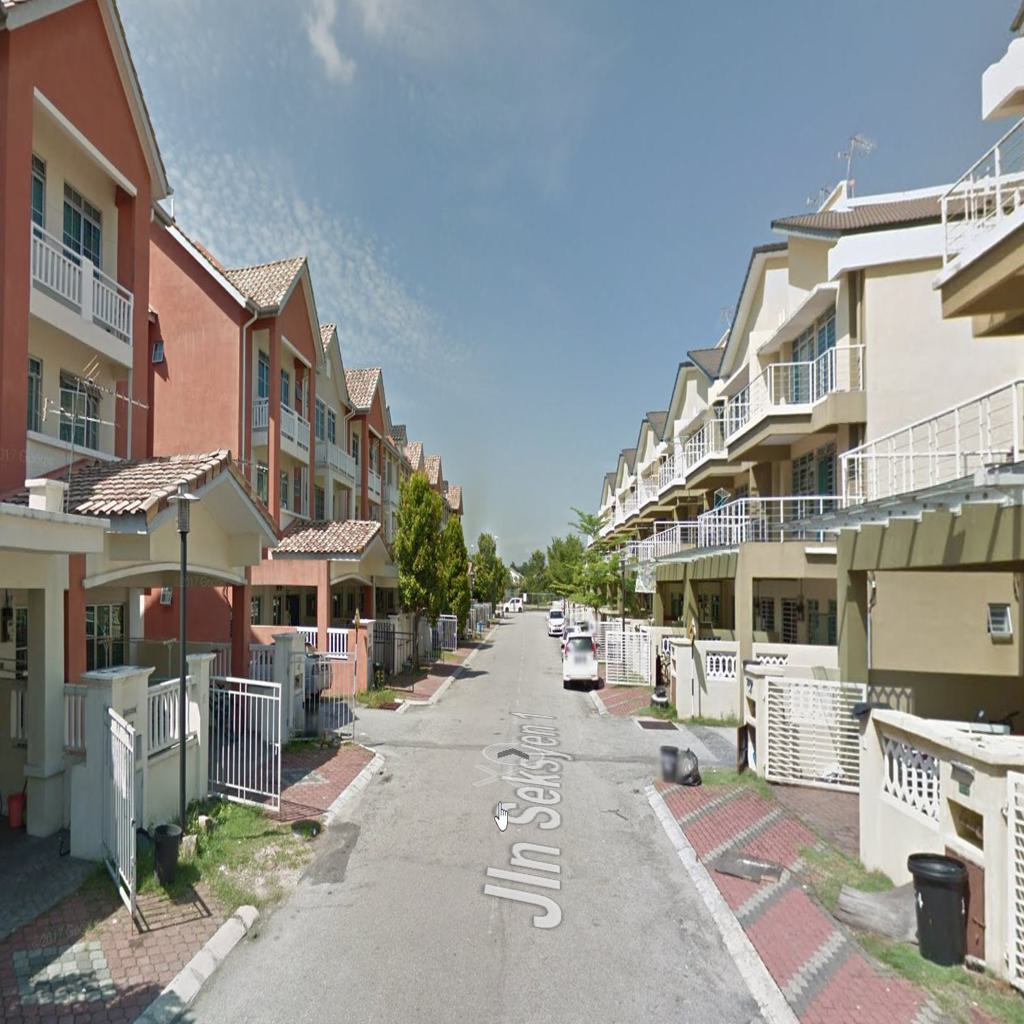Junction: (324, 667, 452, 787), (594, 694, 735, 801)
